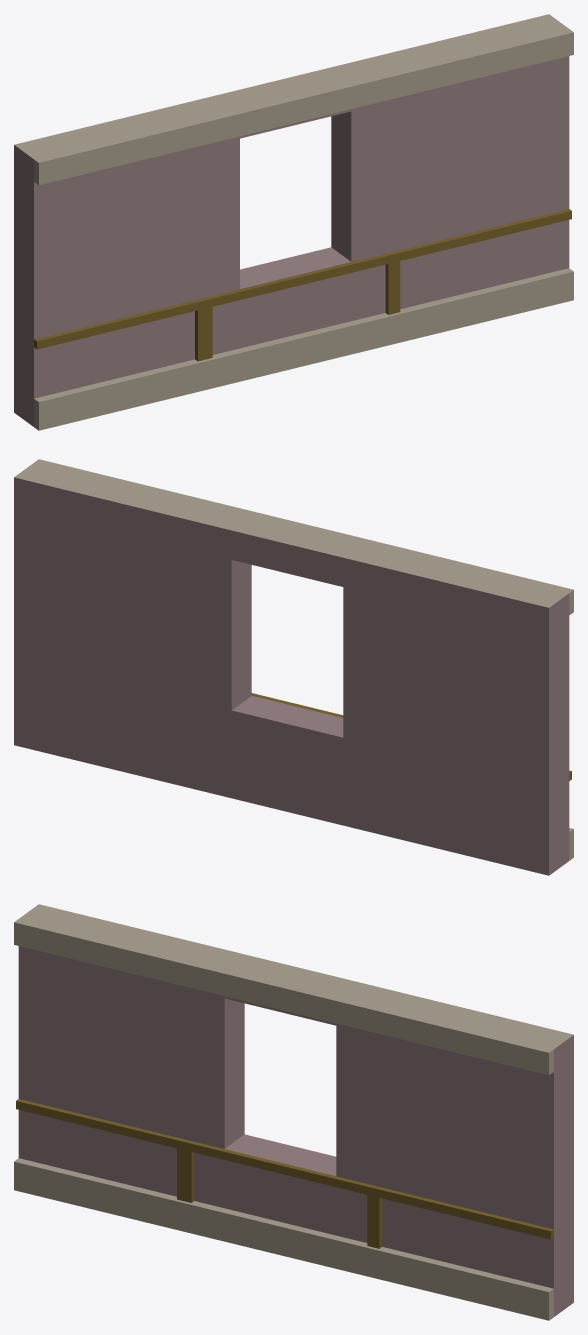
The model's file is SM_WindowWall2.fbx.
3 renders of one model, top to bottom at view 1: azimuth 30°, elevation 25°; view 2: azimuth 150°, elevation 25°; view 3: azimuth 330°, elevation 25°, orthographic.
Parts seen in each view (by area): view 1: SM_Wall_Window_500x240; view 2: SM_Wall_Window_500x240; view 3: SM_Wall_Window_500x240.
Part boxes in pixels (x1,y1,x2,y2): SM_Wall_Window_500x240: (14,14,573,430); SM_Wall_Window_500x240: (14,459,573,875); SM_Wall_Window_500x240: (14,904,573,1320).
Size of the model in its own units: 500 by 239 by 40.27.
